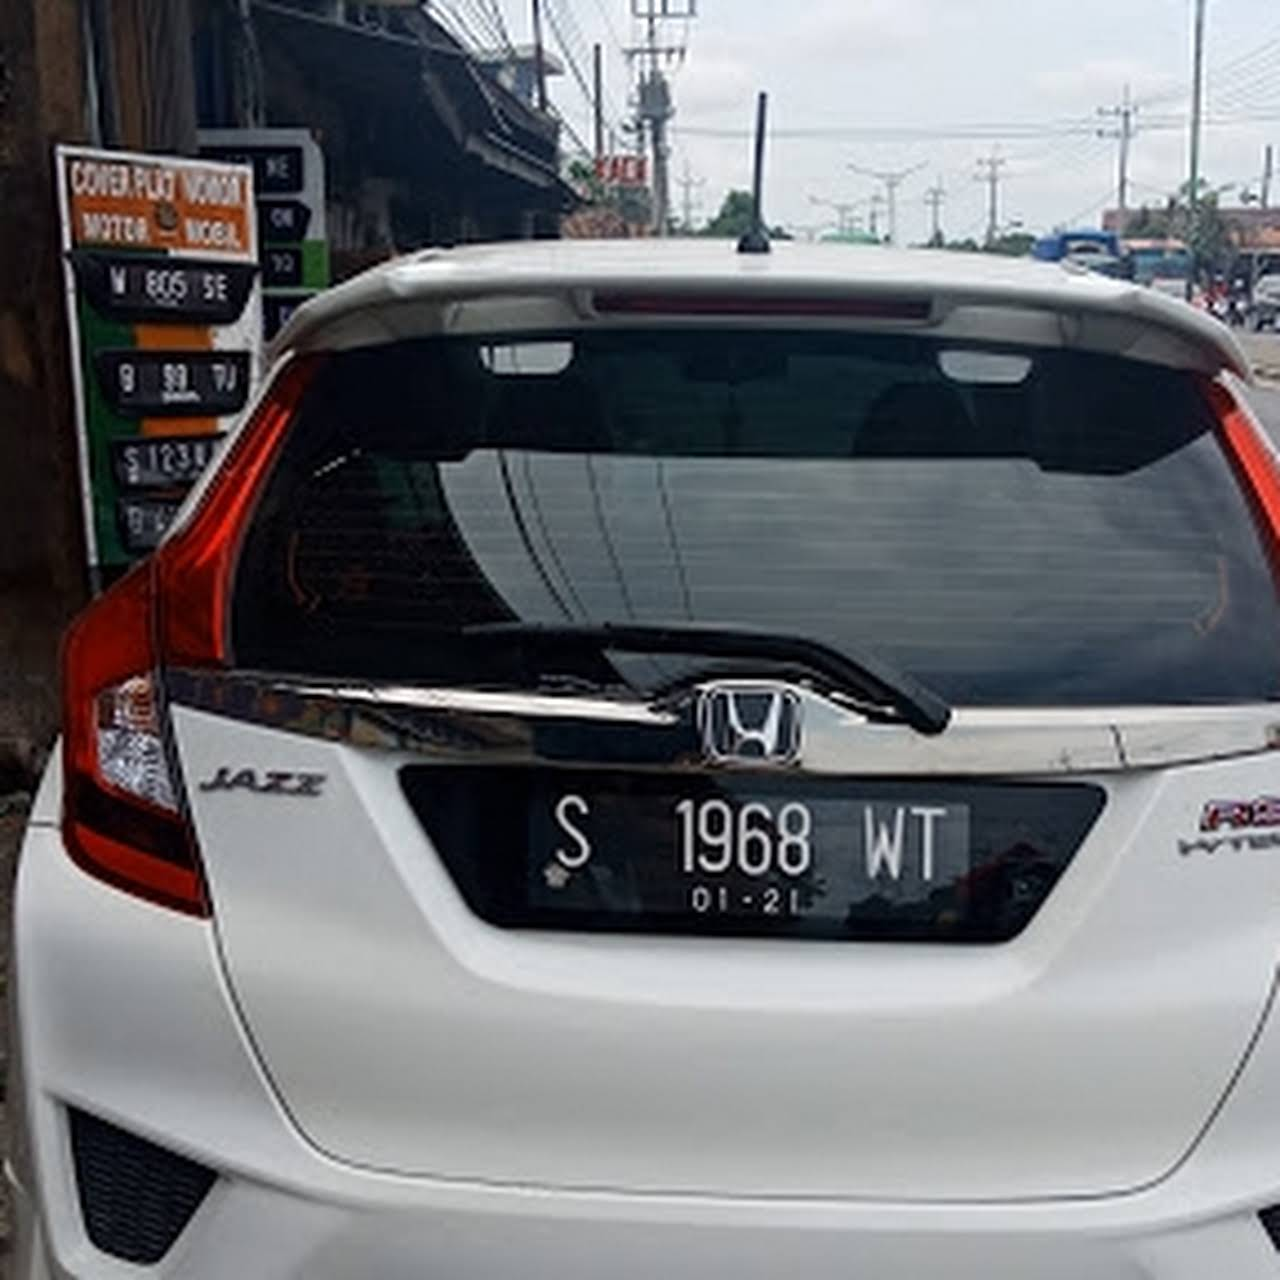plate: (525, 792, 967, 938)
